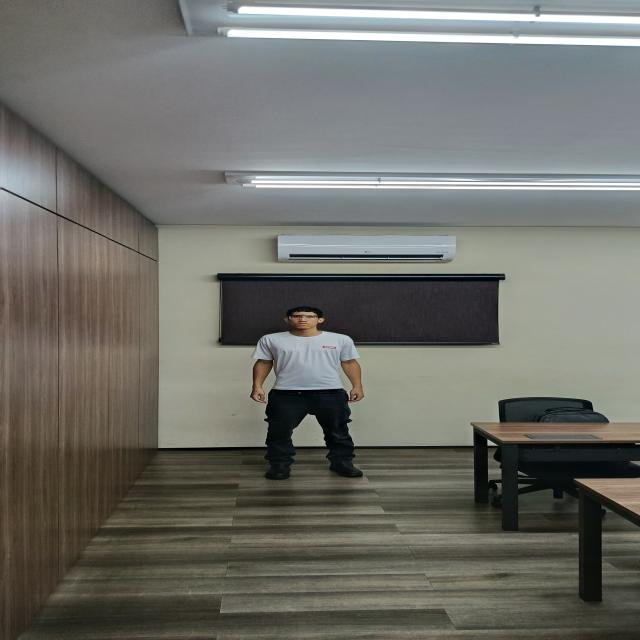sem_oculos: (298, 315, 318, 320)
